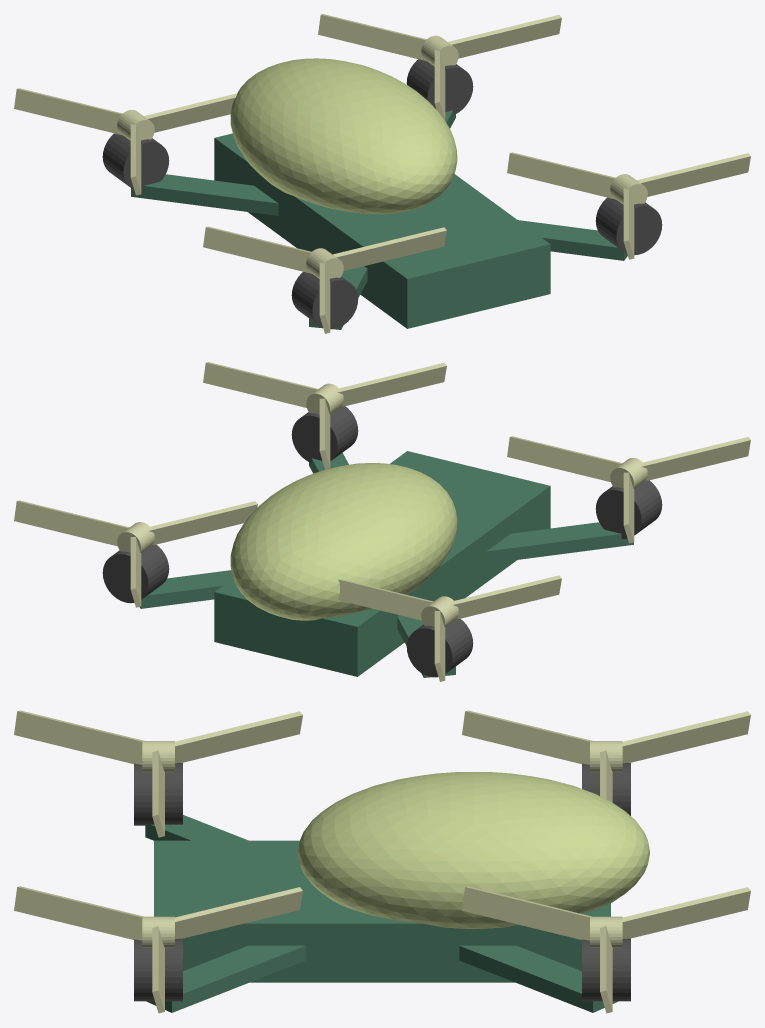
The model's file is AOS 5.5.glb.
The picture shows the model from 3 angles, top to bottom: view 1: azimuth 30°, elevation 25°; view 2: azimuth 150°, elevation 25°; view 3: azimuth 270°, elevation 25°; orthographic projection. The views are drawn at different scales.
Parts seen in each view (by area): view 1: canopy, frame_body, prop_2, prop_0, prop_1, prop_3, arm_3, motor_0, motor_2, motor_3, arm_0, motor_1 (+1 smaller); view 2: canopy, frame_body, prop_0, prop_2, prop_1, prop_3, arm_2, motor_1, motor_3, motor_0, motor_2, arm_1; view 3: canopy, frame_body, prop_1, prop_0, prop_2, prop_3, arm_1, arm_0, motor_1, motor_0, motor_2, arm_2 (+1 smaller).
Part boxes in pixels (box(x1,y1,x2,y2)): canopy: box(230, 58, 457, 214); frame_body: box(214, 133, 550, 328); prop_2: box(203, 226, 446, 333); prop_0: box(507, 152, 750, 259); prop_1: box(318, 14, 561, 119); prop_3: box(14, 88, 237, 195); arm_3: box(131, 174, 278, 215); motor_0: box(595, 197, 662, 255); motor_2: box(291, 272, 358, 329); motor_3: box(102, 133, 169, 190); arm_0: box(518, 220, 627, 260); motor_1: box(406, 59, 473, 114); canopy: box(230, 463, 457, 620); frame_body: box(214, 451, 550, 676); prop_0: box(203, 362, 446, 469); prop_2: box(507, 436, 750, 543); prop_1: box(14, 500, 257, 607); prop_3: box(338, 575, 561, 681); arm_2: box(486, 522, 633, 563); motor_1: box(102, 544, 169, 603); motor_3: box(406, 618, 473, 677); motor_0: box(291, 406, 358, 462); motor_2: box(595, 480, 662, 538); arm_1: box(139, 570, 232, 608); canopy: box(297, 772, 649, 928); frame_body: box(154, 840, 610, 982); prop_1: box(462, 886, 750, 1013); prop_0: box(14, 886, 302, 1013); prop_2: box(14, 710, 302, 837); prop_3: box(462, 710, 750, 802); arm_1: box(459, 945, 618, 1012); arm_0: box(146, 945, 305, 1012); motor_1: box(582, 938, 630, 1001); motor_0: box(134, 938, 182, 1001); motor_2: box(134, 763, 182, 825); arm_2: box(145, 815, 248, 840).
Size of the model in its own units: 0.2041 by 0.0516 by 0.2257.
